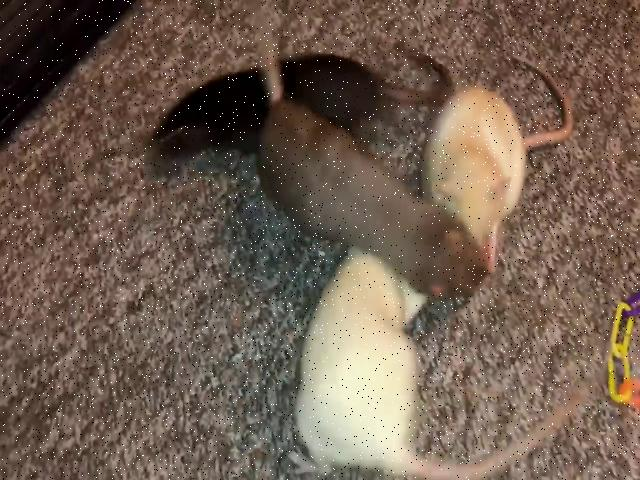Tikus: (289, 251, 582, 480), (260, 92, 484, 296), (146, 48, 394, 138), (432, 70, 526, 244)
